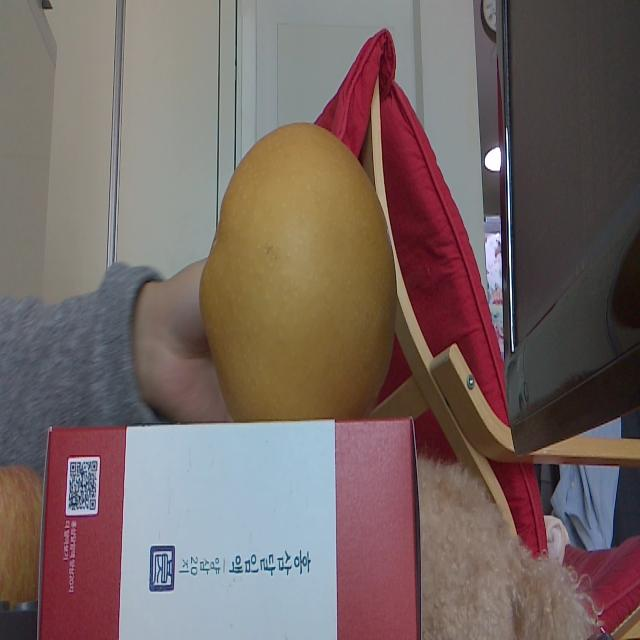pear: (198, 122, 394, 422)
